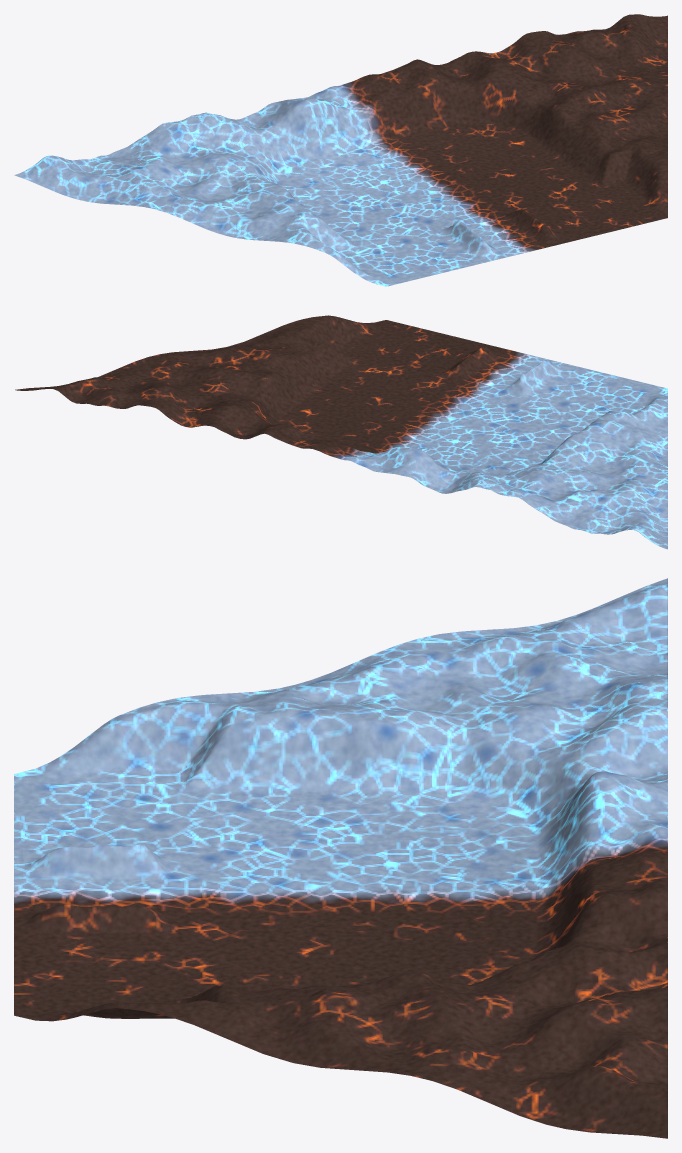
Rendered from board2_ground.glb.
3 renders of one model, top to bottom at view 1: azimuth 30°, elevation 25°; view 2: azimuth 150°, elevation 25°; view 3: azimuth 270°, elevation 25°, orthographic. The views are drawn at different scales.
Parts seen in each view (by area): view 1: terrain; view 2: terrain; view 3: terrain.
Boxes of the visible parts, x1,y1,x2,y2 form: terrain: [14, 14, 667, 286]; terrain: [15, 315, 667, 549]; terrain: [14, 578, 667, 1138].
Size of the model in its own units: 375 by 22.68 by 185.
Materials: 1 (1 with a texture image).
